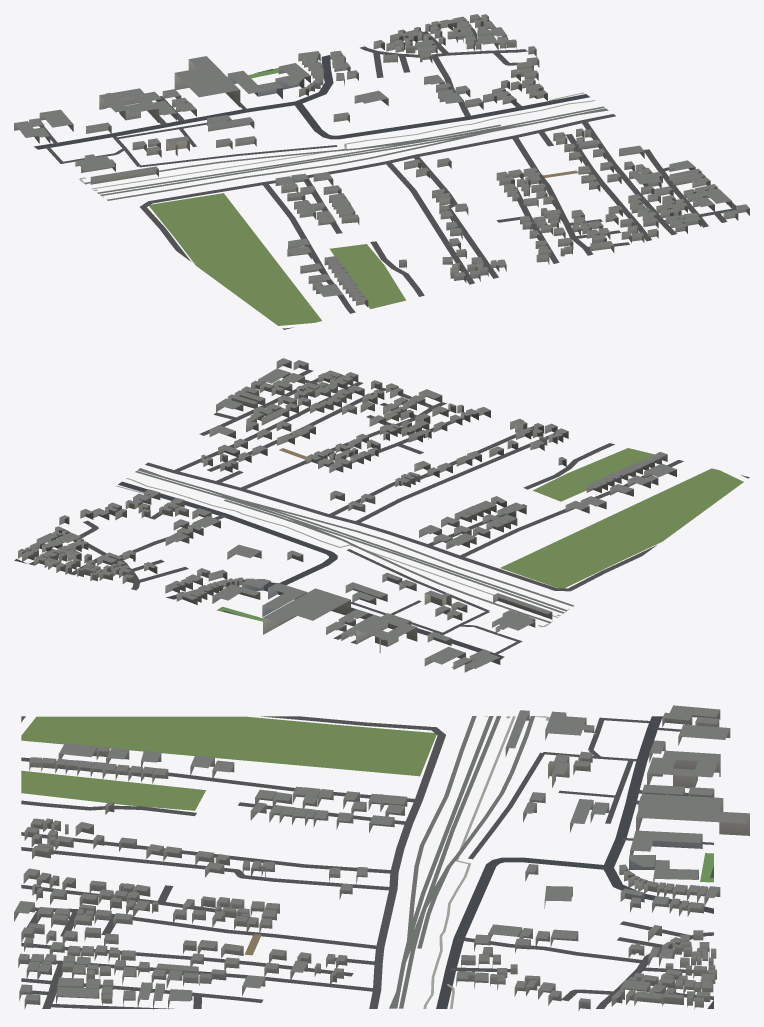
3 renders of one model, top to bottom at view 1: azimuth 30°, elevation 25°; view 2: azimuth 150°, elevation 25°; view 3: azimuth 270°, elevation 25°, orthographic. The views are drawn at different scales.
Parts seen in each view (by area): view 1: building, ground; view 2: building, ground; view 3: building, ground.
Part boxes in pixels (x1=…): building: x1=14, y1=14, x2=749, y2=307; ground: x1=34, y1=21, x2=736, y2=329; building: x1=18, y1=358, x2=676, y2=672; ground: x1=14, y1=369, x2=749, y2=667; building: x1=14, y1=705, x2=749, y2=1010; ground: x1=21, y1=716, x2=713, y2=1008.
Size of the model in its own units: 508 by 18 by 531.
